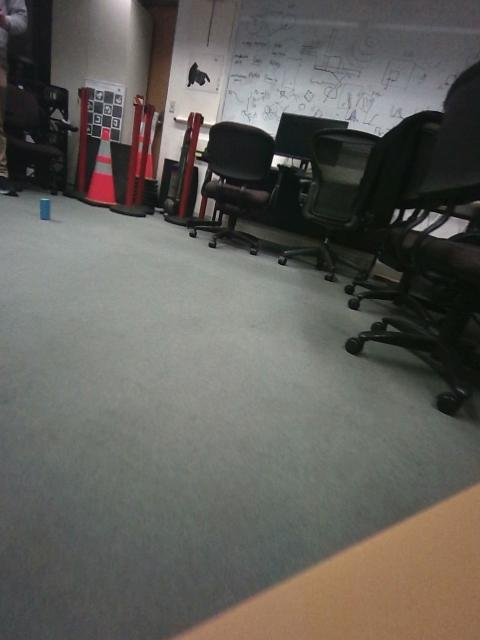block: (104, 341, 145, 427)
